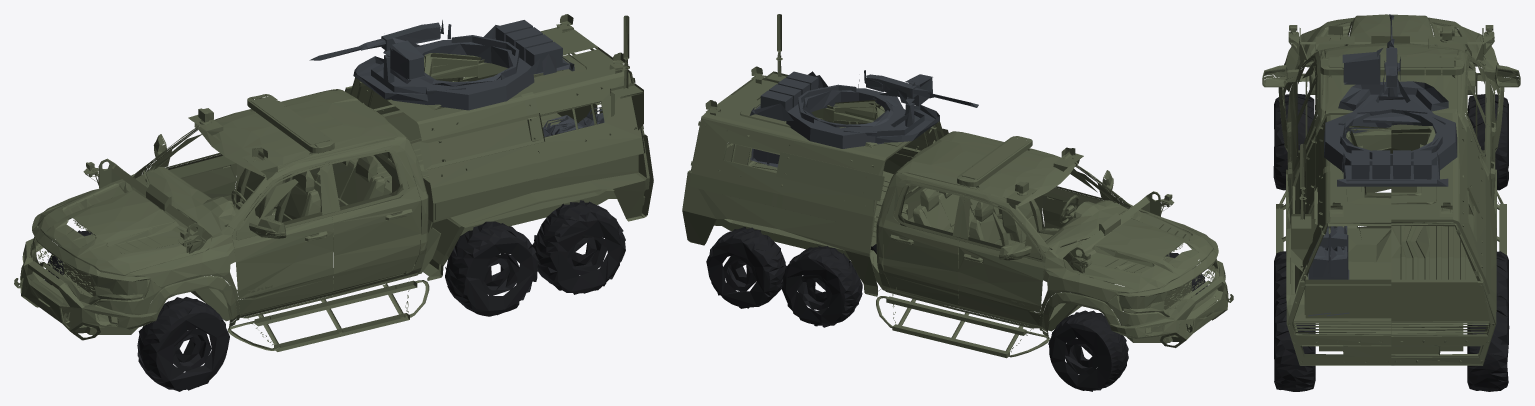
File: armored_truck.glb
3 renders of one model, left to right at view 1: azimuth 30°, elevation 25°; view 2: azimuth 150°, elevation 25°; view 3: azimuth 270°, elevation 25°, orthographic. The views are drawn at different scales.
Visible parts, largest first — view 1: Trailer.001, Spare.006, Plane.039; view 2: Trailer.001, Spare.006, Plane.039; view 3: Trailer.001, Plane.039, Spare.006.
Boxes of the visible parts, x1,y1,x2,y2 form: Trailer.001: (14, 14, 653, 351); Spare.006: (45, 200, 625, 391); Plane.039: (309, 20, 604, 136); Trailer.001: (682, 14, 1233, 358); Spare.006: (706, 227, 1207, 391); Plane.039: (747, 70, 978, 167); Trailer.001: (1262, 14, 1520, 365); Plane.039: (1307, 14, 1457, 316); Spare.006: (1273, 94, 1509, 391).
Bounding box in the file's own units: 3.3 × 1.45 × 1.26.
